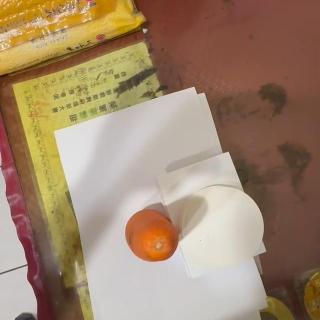carrot: (124, 209, 178, 263)
